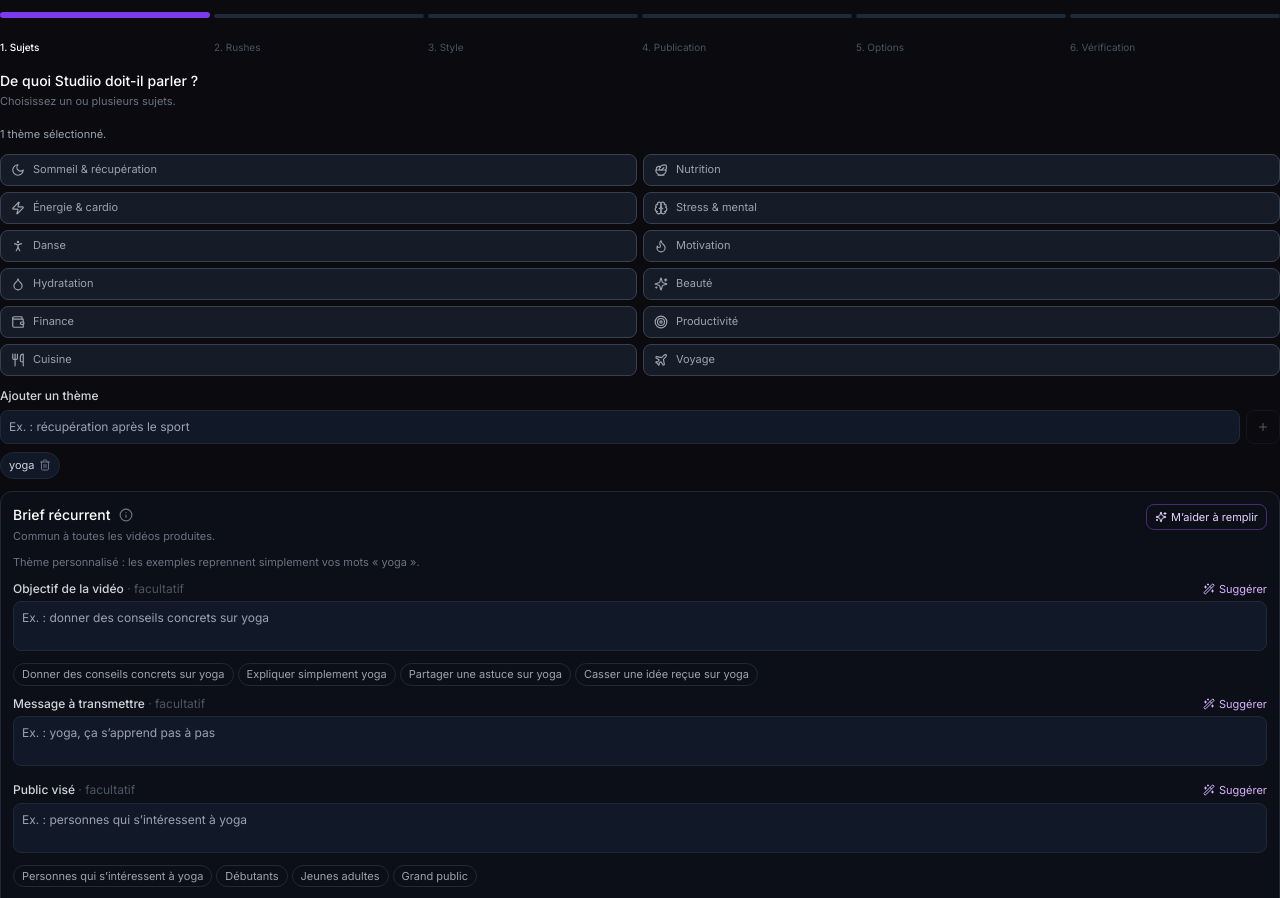
it: G — avatar demandé, aucun avatar prêt › déjà coché (configuration ancienne) : étape bloquée avec un message explicite
This screenshot has width=1280, height=898.
Click the button named "Rushes": (319, 16) [214,14,424,18]
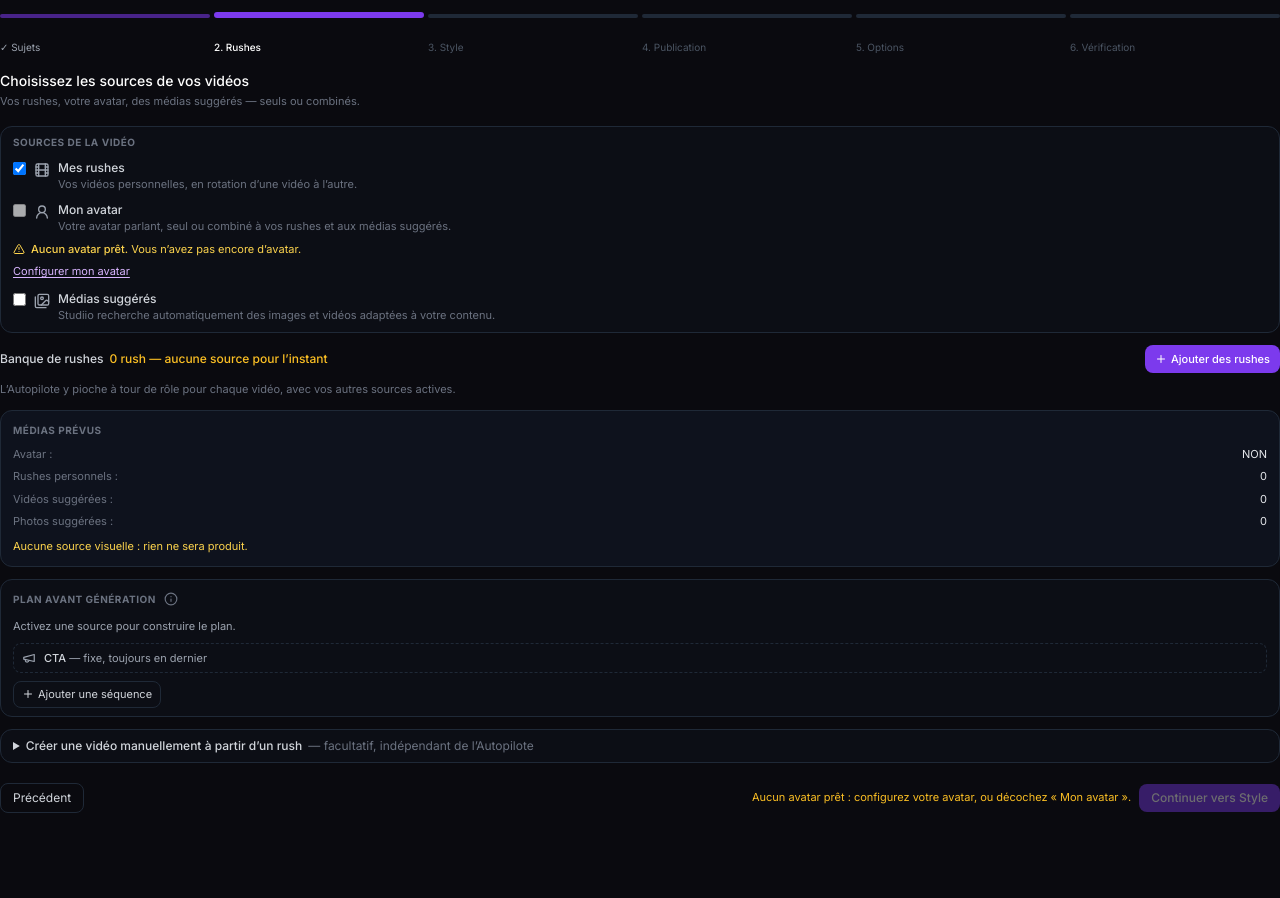
expect the element that starts with "Mon avatar" is shown: met, box [13,202,451,278]
expect the button "Continuer vers Style" is disabled: met, box [1139,784,1279,812]
expect the text "Aucun avatar prêt : configurez votre avatar, ou décochez « Mon avatar »." is shown: met, box [752,789,1131,806]
